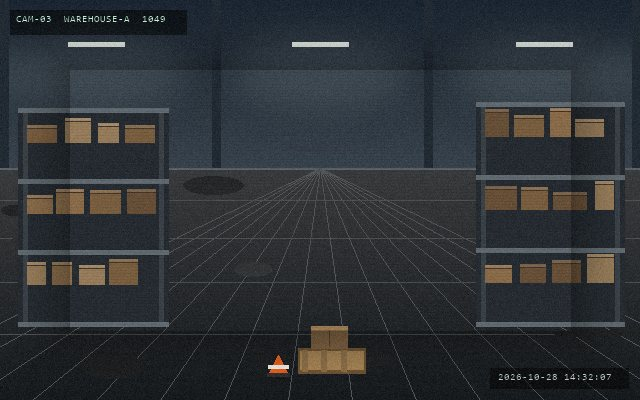cone: (266, 353, 290, 379)
pallet: (296, 346, 367, 375)
shelf: (476, 102, 624, 322), (18, 108, 168, 322)
